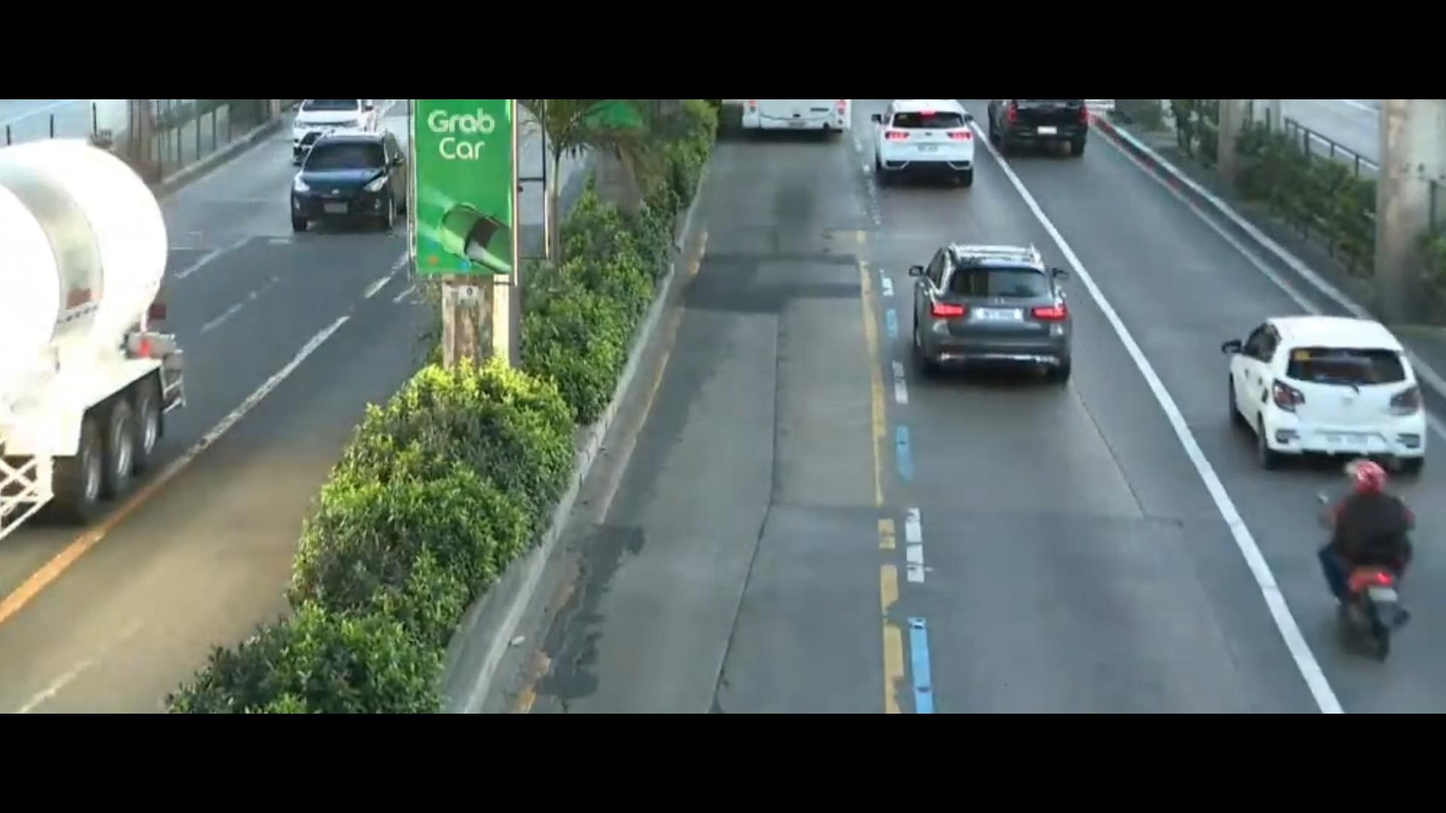Motorcycle: (1296, 450, 1407, 668)
SUV: (881, 229, 1098, 392), (259, 121, 409, 254), (862, 101, 995, 184)
Sedan: (1173, 272, 1446, 483)
Truck: (0, 136, 196, 571)
